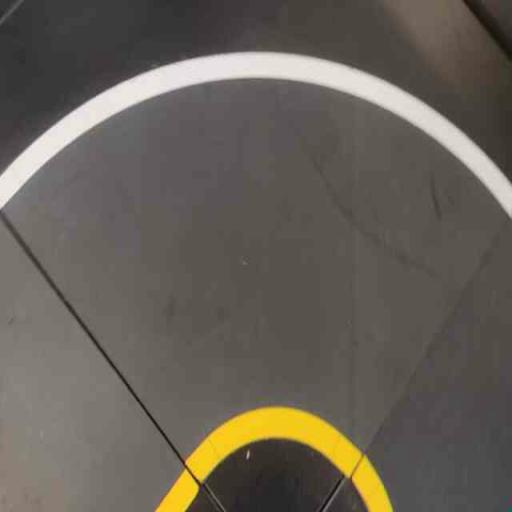left: (0, 9, 511, 511)
